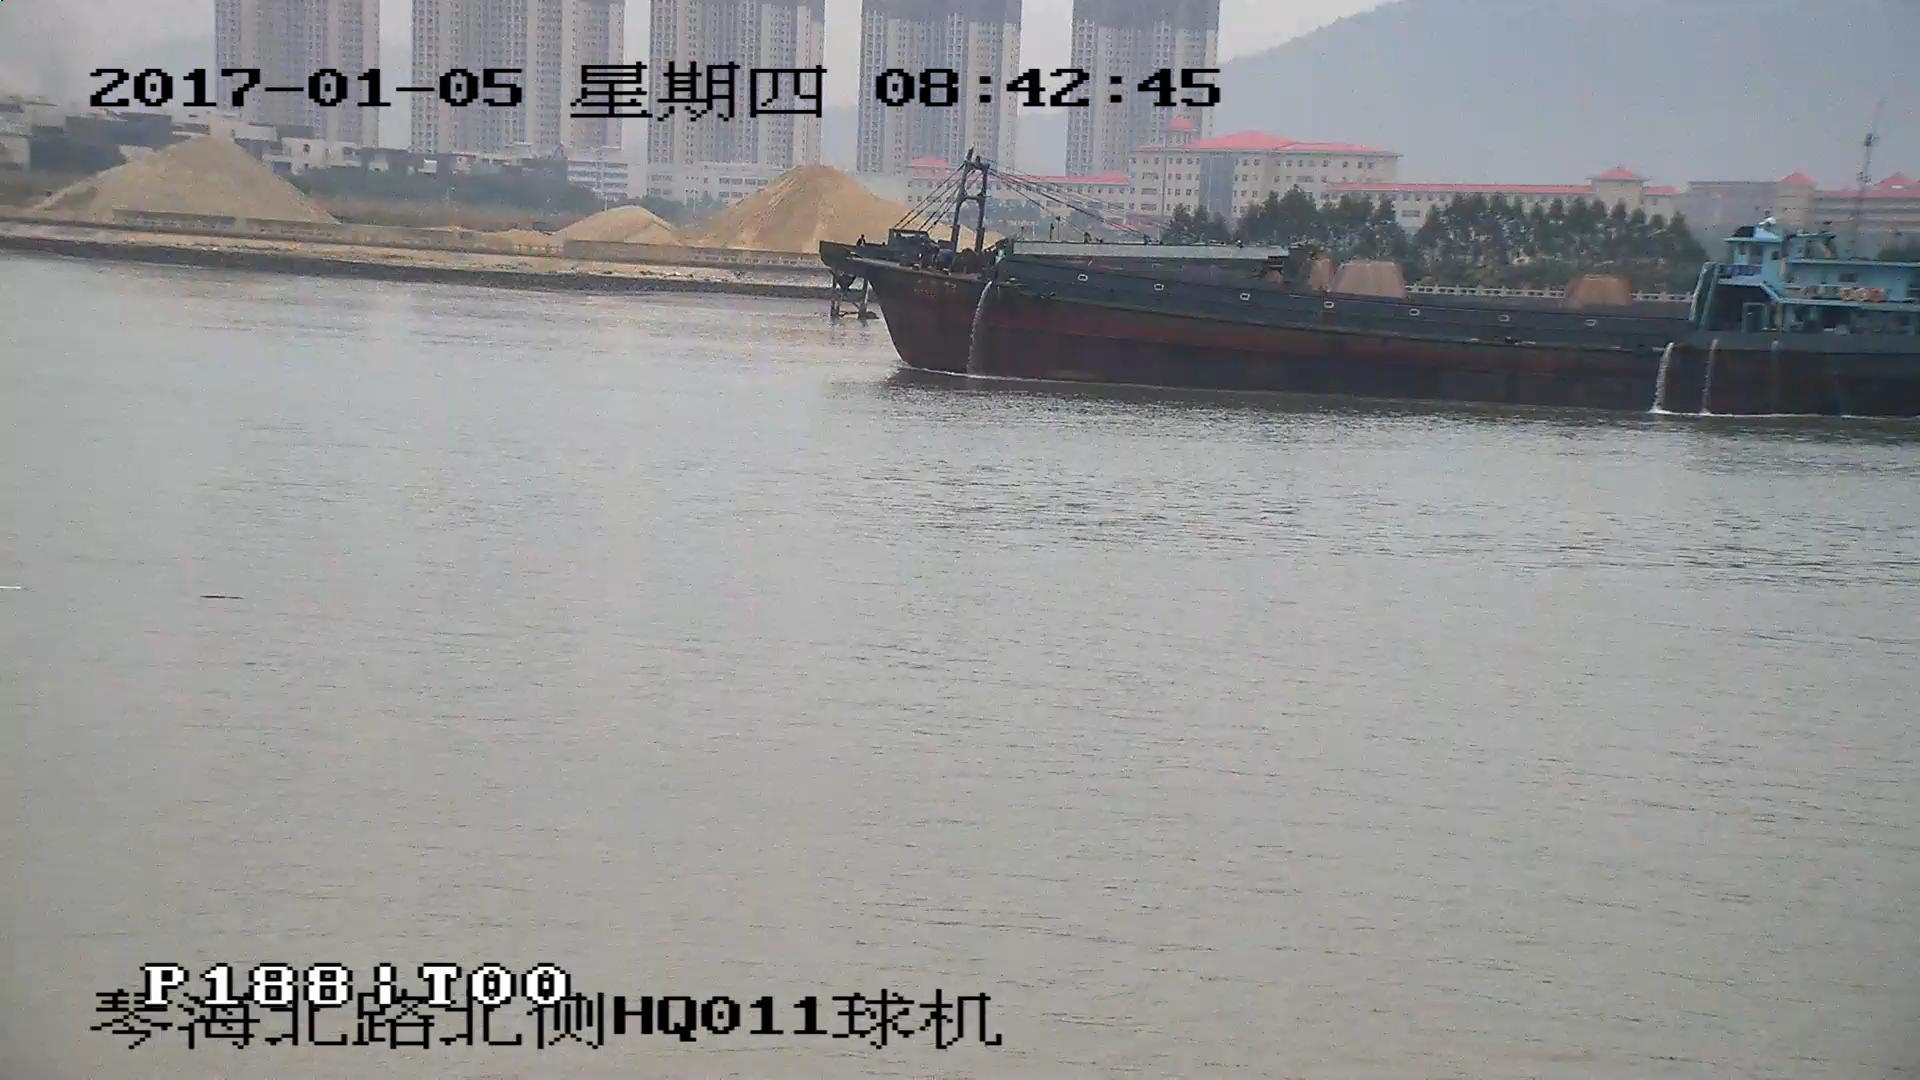Ship: (822, 158, 1920, 415)
